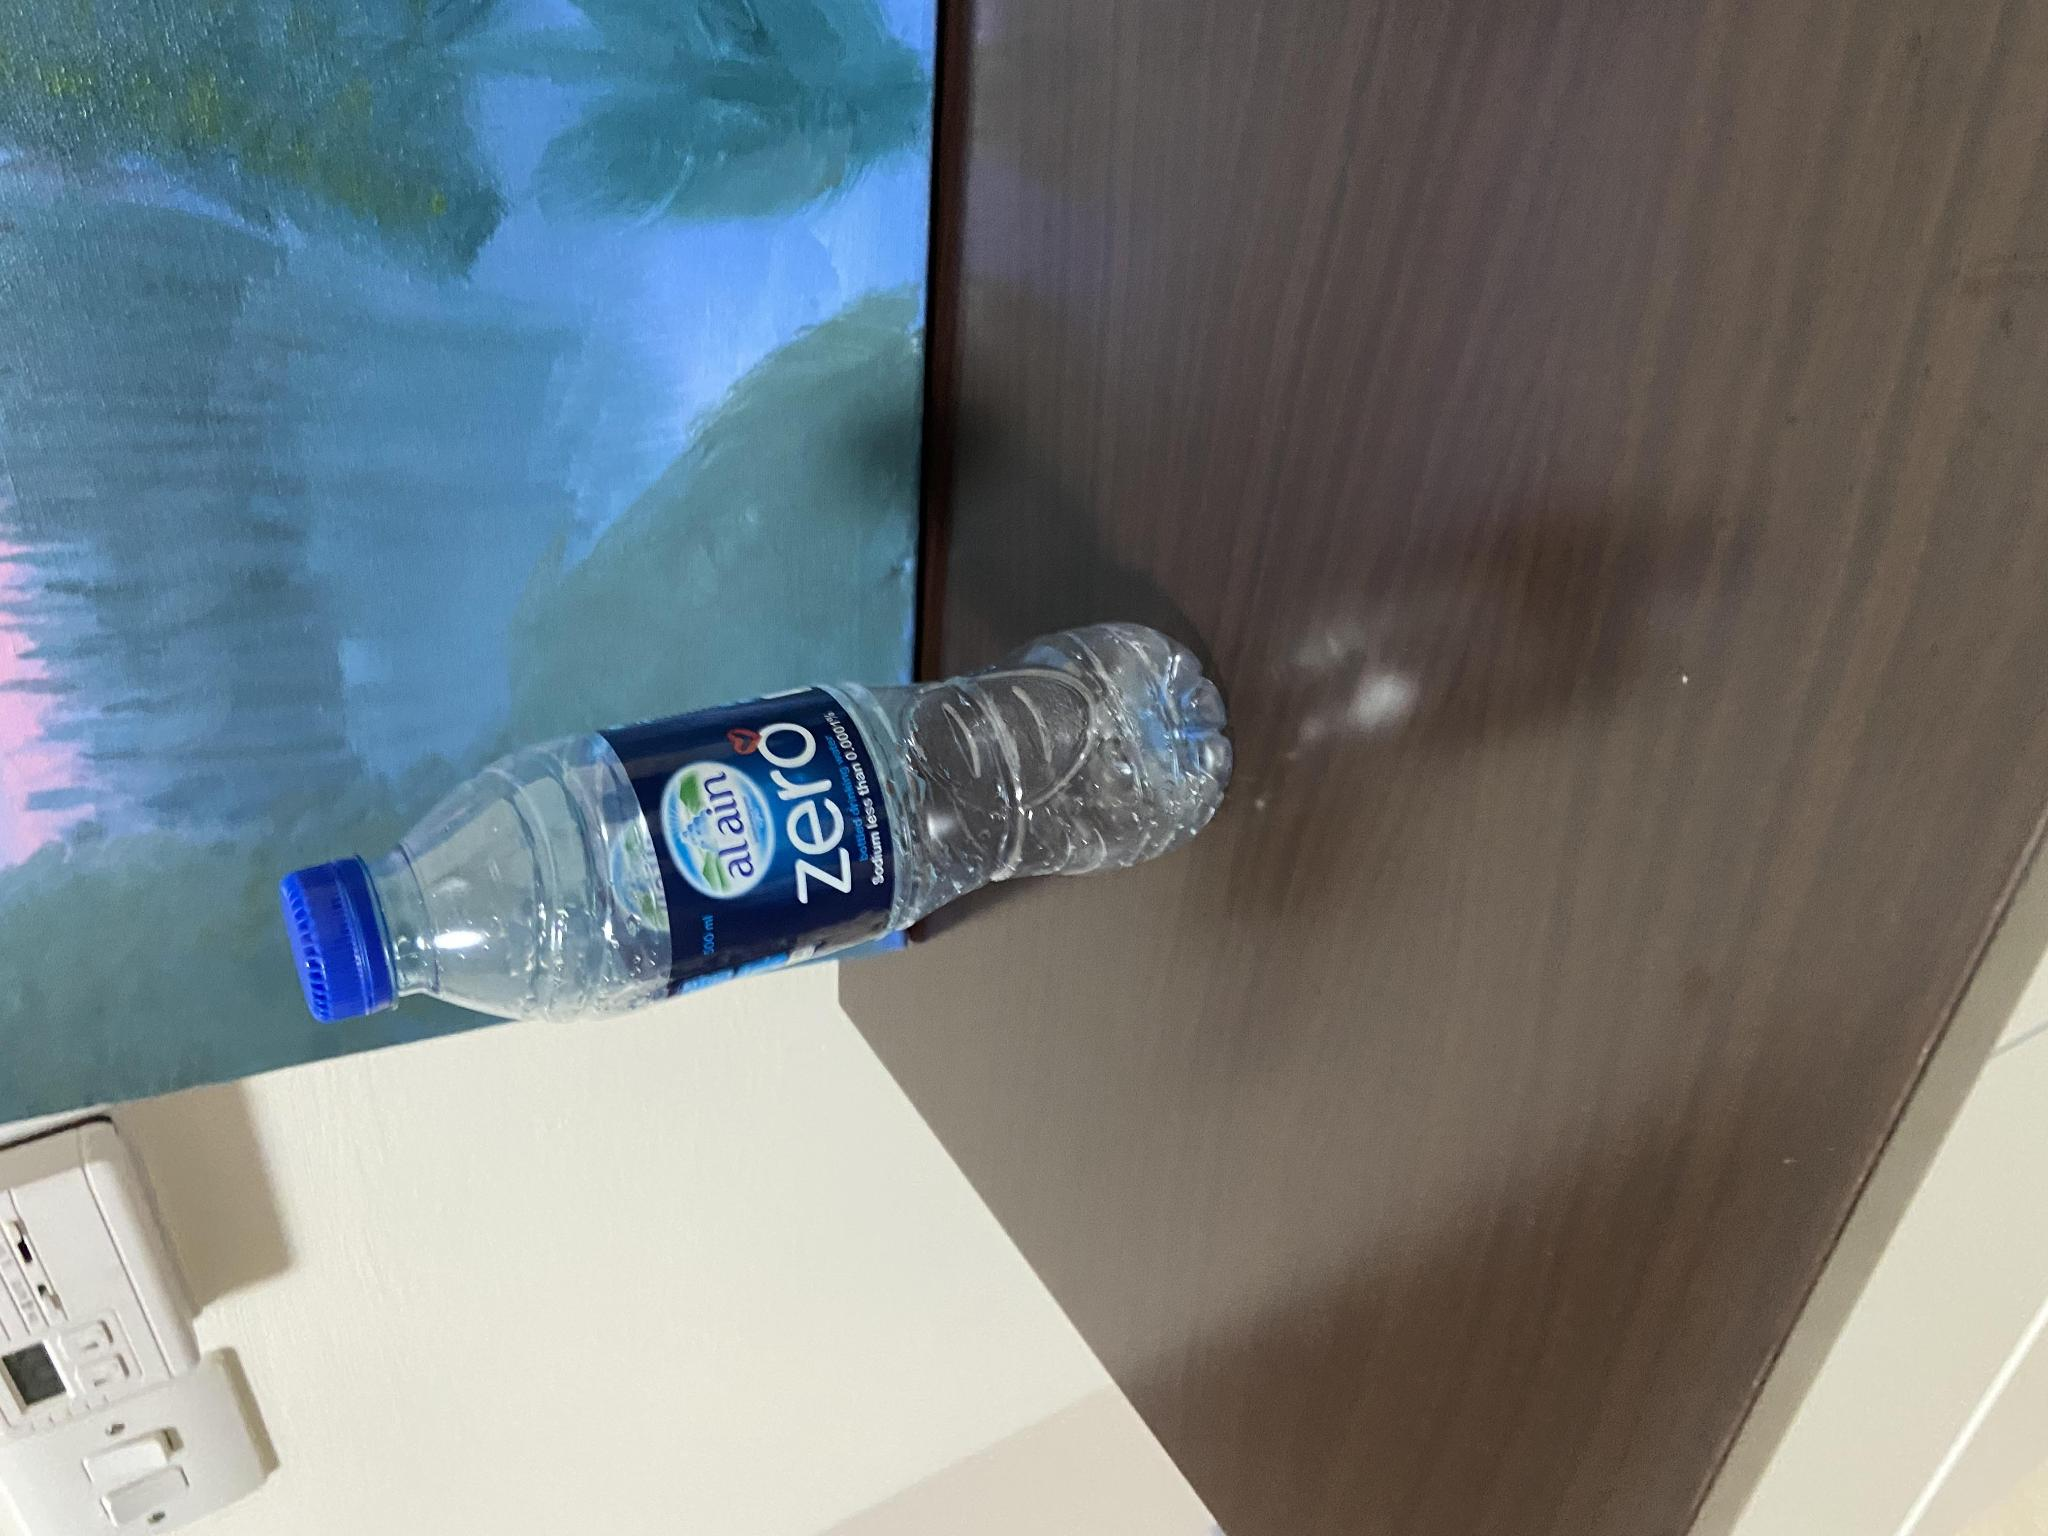bottle: (261, 587, 1240, 1115)
